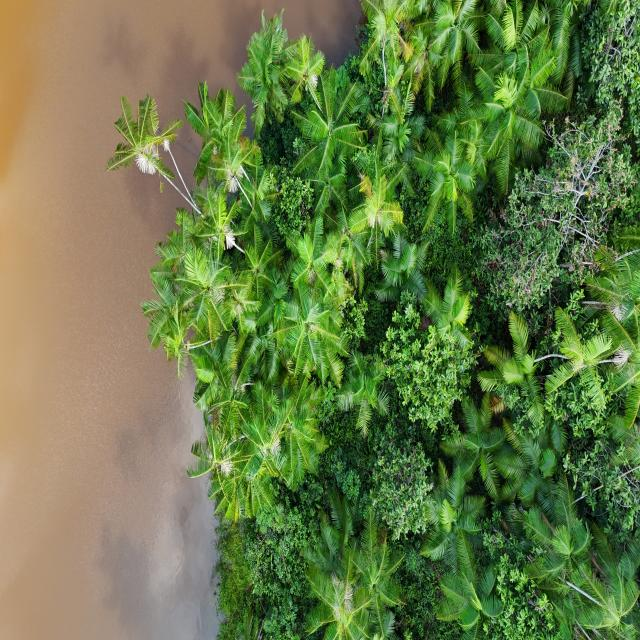vegetation: (105, 1, 638, 638)
